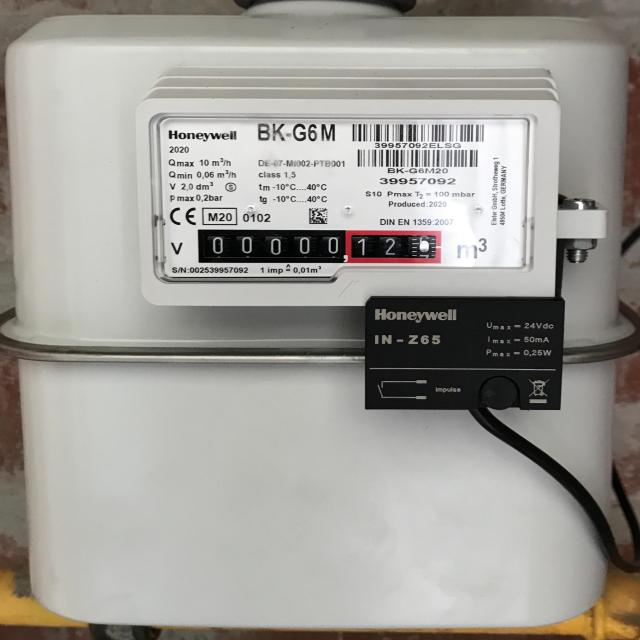gaz_meter: (146, 113, 535, 274)
indication: (197, 231, 440, 264)
